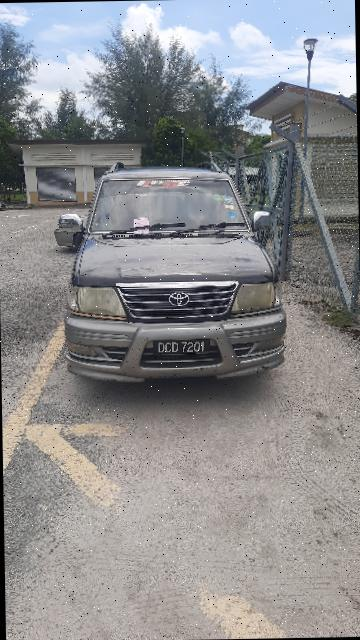License_Plate: (155, 337, 216, 358)
car: (48, 155, 298, 390)
